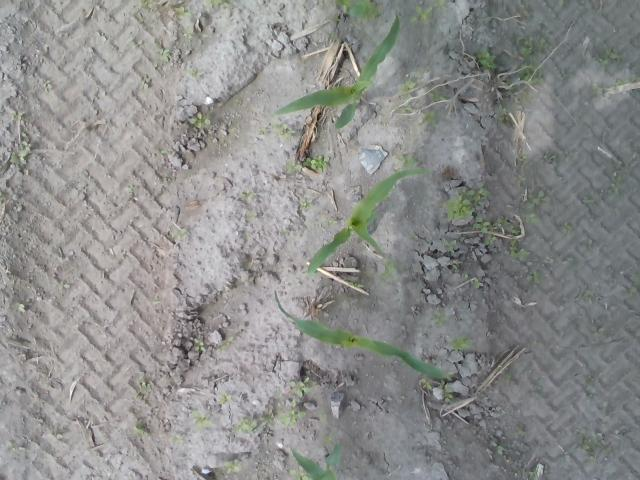Maize: (272, 288, 454, 382), (273, 16, 402, 133), (302, 168, 430, 279), (288, 441, 344, 480), (335, 0, 383, 21)
Weeds: (445, 186, 491, 220), (517, 36, 544, 86), (473, 217, 509, 243), (512, 228, 532, 259), (580, 437, 606, 460), (304, 154, 330, 173), (408, 5, 431, 24), (526, 190, 550, 208), (192, 410, 215, 428), (288, 379, 310, 397), (382, 262, 400, 283), (477, 50, 497, 68), (189, 111, 210, 128), (273, 123, 295, 139), (282, 410, 304, 424), (422, 110, 438, 128), (172, 6, 192, 20), (432, 310, 448, 327), (238, 420, 257, 434), (10, 148, 28, 162), (452, 336, 471, 349), (528, 270, 546, 283), (219, 336, 234, 351), (224, 460, 240, 474), (290, 468, 308, 480), (610, 175, 622, 193), (602, 48, 620, 60), (429, 91, 447, 102), (400, 80, 414, 94), (206, 0, 230, 8), (498, 109, 510, 124), (139, 380, 152, 393), (418, 377, 432, 389), (193, 338, 205, 352), (176, 229, 190, 241), (444, 238, 456, 250), (182, 28, 194, 40), (132, 422, 144, 434), (443, 391, 454, 404), (525, 214, 539, 224), (11, 111, 24, 121), (138, 0, 152, 9), (160, 49, 170, 61), (241, 190, 253, 200), (220, 394, 232, 404), (287, 164, 301, 172), (542, 154, 556, 162), (300, 198, 310, 208), (472, 279, 482, 289)
